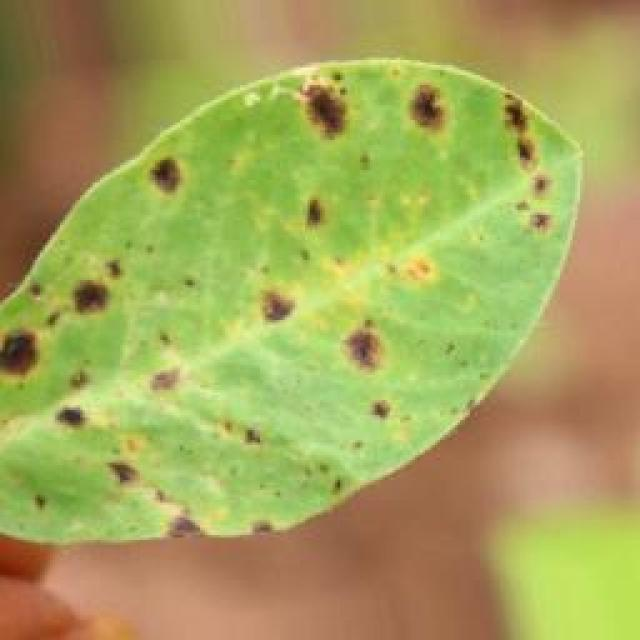Yellowish: (0, 59, 570, 543)
